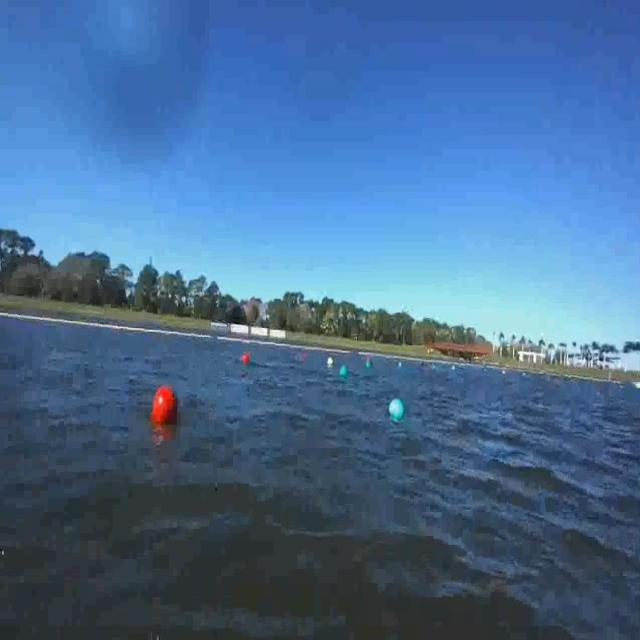green-buoy: (388, 398, 405, 422), (341, 364, 350, 378)
red-buoy: (152, 386, 178, 430), (241, 353, 248, 364)
yellow-buoy: (327, 357, 333, 368)
